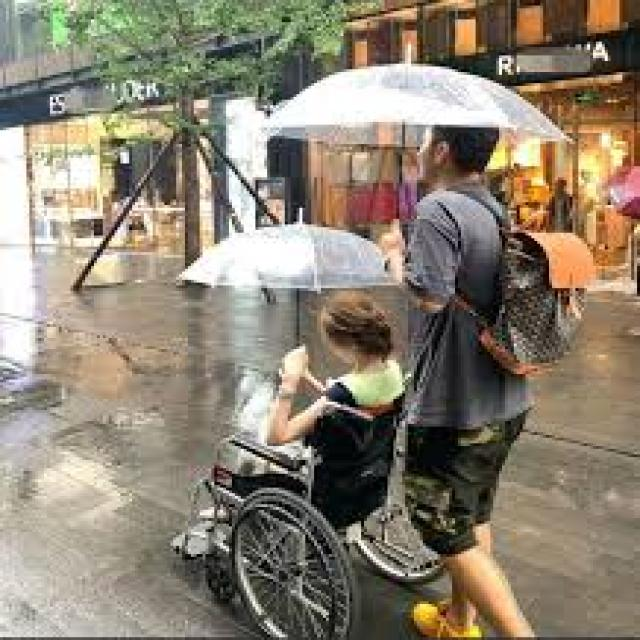wheelchairs: (182, 377, 467, 637)
